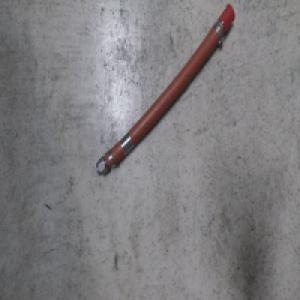Hose: (93, 2, 236, 178)
